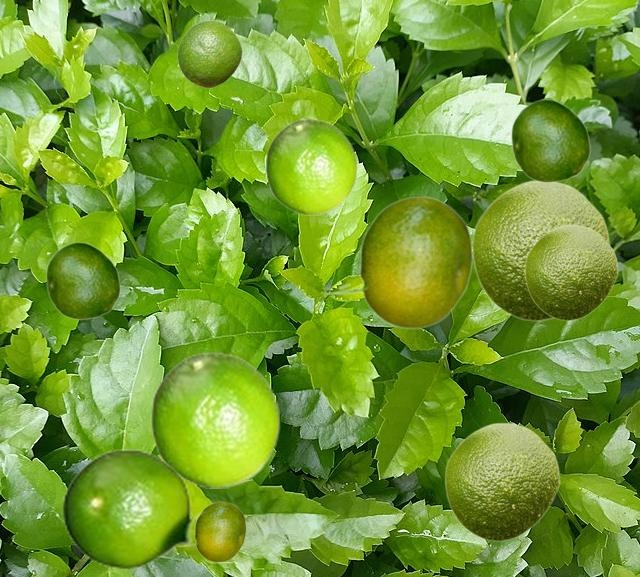calamansi: (321, 195, 472, 328), (471, 180, 609, 321), (150, 351, 280, 487), (61, 449, 206, 569), (444, 422, 559, 541), (524, 224, 617, 320), (265, 118, 357, 214), (510, 98, 590, 182), (45, 241, 120, 319), (177, 20, 241, 87), (177, 501, 245, 561)
